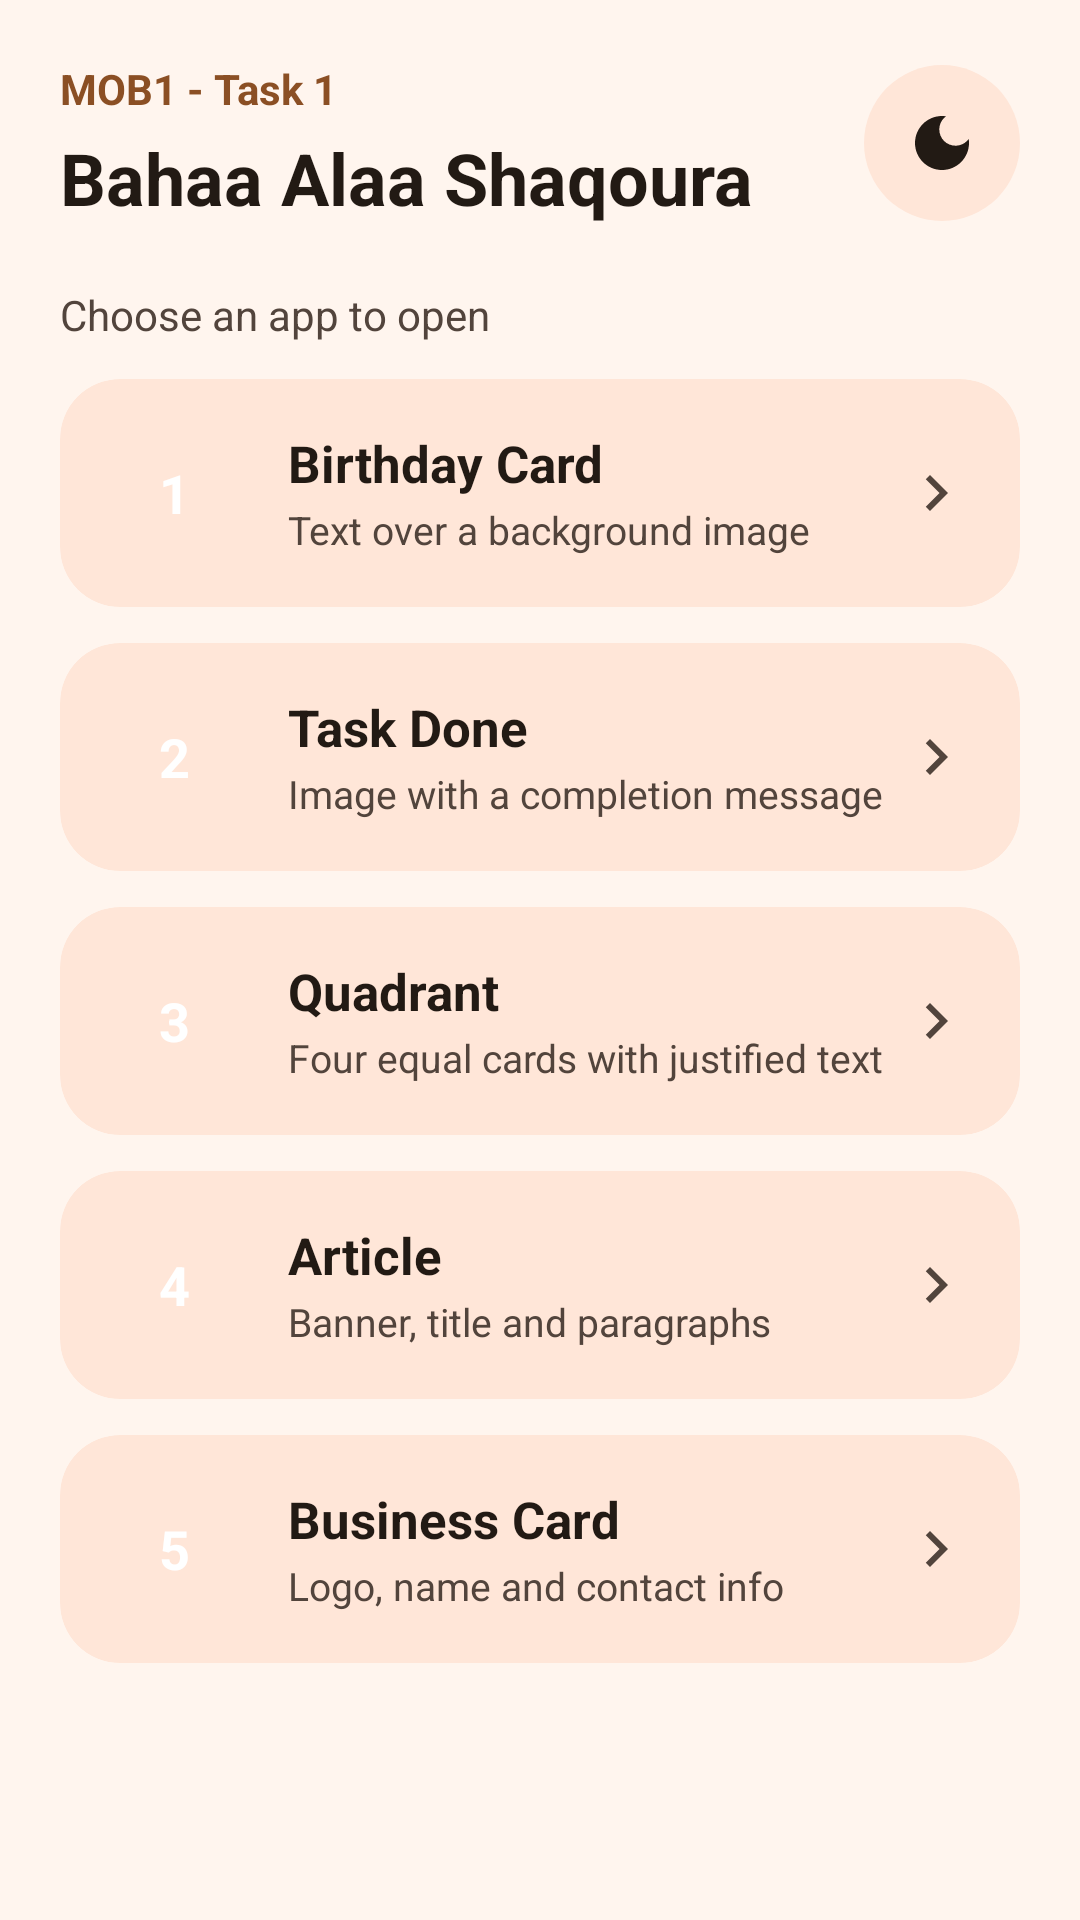

Icon click points for this 1080 x 1920 phone screenshot, format [x,y]:
chevron right: [937,493], [937,757], [937,1021], [937,1285], [937,1549]
Switch Light / Dark mode: [942,143]
